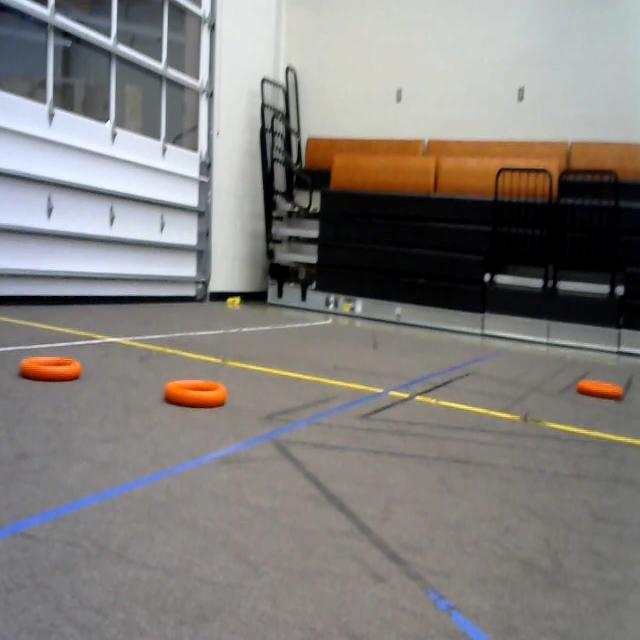note: (157, 368, 232, 409), (16, 353, 84, 388), (573, 368, 627, 411)
